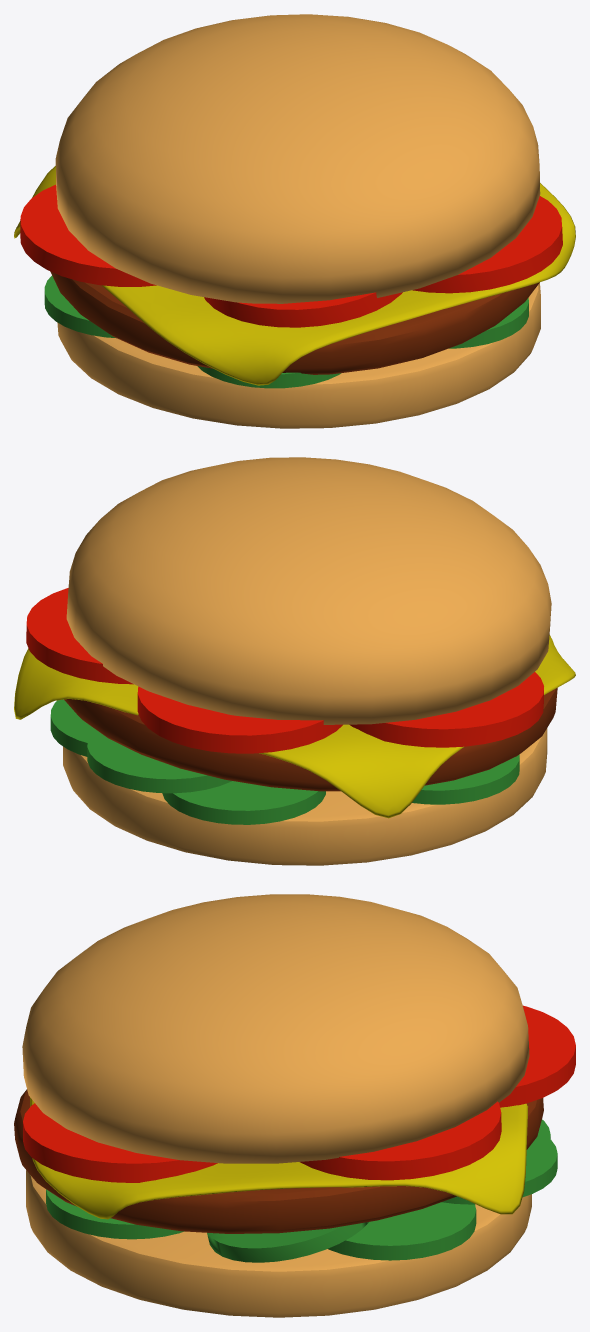
File: burger_с_не_красной_булкой_блять_хотя_до_этого_и_как_бы_не_красная.fbx
The picture shows the model from 3 angles, top to bottom: view 1: azimuth 30°, elevation 25°; view 2: azimuth 150°, elevation 25°; view 3: azimuth 270°, elevation 25°; orthographic projection. The views are drawn at different scales.
Visible parts, largest first — view 1: Sphere, Cylinder, Plane, Cylinder.012, Cylinder.007, Cylinder.008; view 2: Sphere, Cylinder, Cylinder.012, Plane, Cylinder.008, Cylinder.007; view 3: Sphere, Cylinder, Cylinder.012, Plane, Cylinder.008, Cylinder.007.
Part boxes in pixels (<box>): Sphere: <box>55,14,540,303</box>; Cylinder: <box>57,283,540,428</box>; Plane: <box>14,166,575,385</box>; Cylinder.012: <box>20,184,562,327</box>; Cylinder.007: <box>50,271,539,374</box>; Cylinder.008: <box>44,275,528,388</box>; Sphere: <box>66,457,551,724</box>; Cylinder: <box>63,728,547,865</box>; Cylinder.012: <box>26,588,543,753</box>; Plane: <box>14,635,575,818</box>; Cylinder.008: <box>50,699,519,824</box>; Cylinder.007: <box>64,688,557,791</box>; Sphere: <box>22,894,529,1163</box>; Cylinder: <box>26,1170,531,1317</box>; Cylinder.012: <box>23,1005,575,1182</box>; Plane: <box>30,1097,528,1219</box>; Cylinder.008: <box>46,1119,557,1262</box>; Cylinder.007: <box>14,1089,543,1233</box>.
Size of the model in its own units: 221 by 122 by 222.
